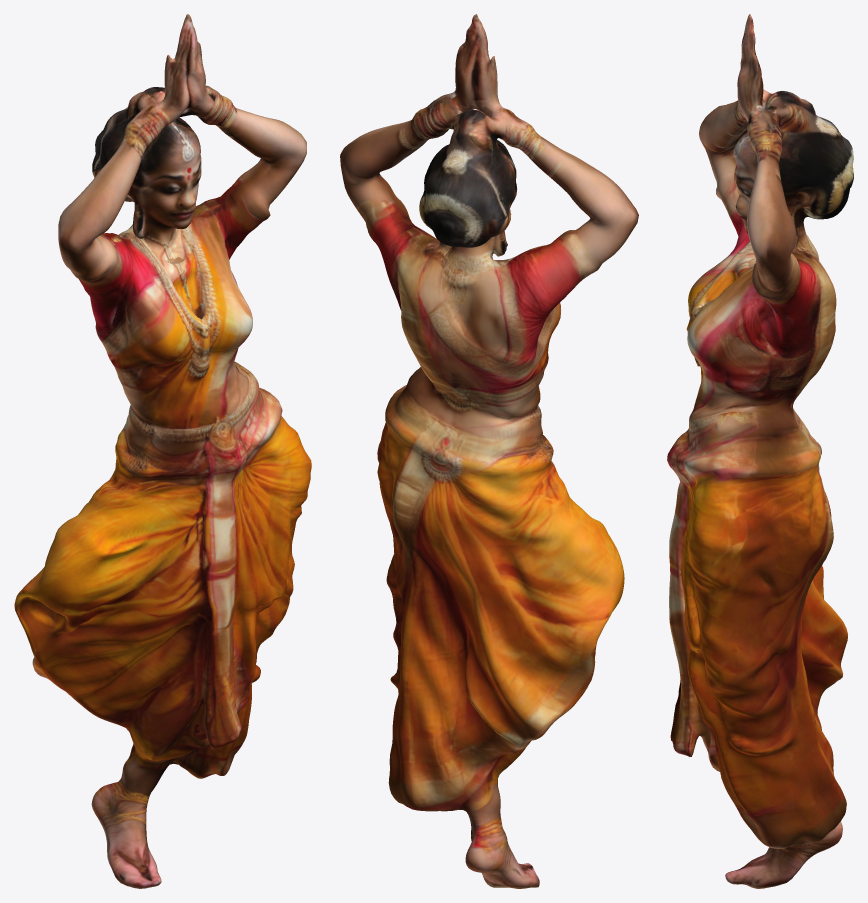
3 views of the same model, side by side, from view 1: azimuth 30°, elevation 25°; view 2: azimuth 150°, elevation 25°; view 3: azimuth 270°, elevation 25° (orthographic). The views are drawn at different scales.
Bounding box in the file's own units: 0.6721 × 2.01 × 0.3808.
1 material, 1 textured.
